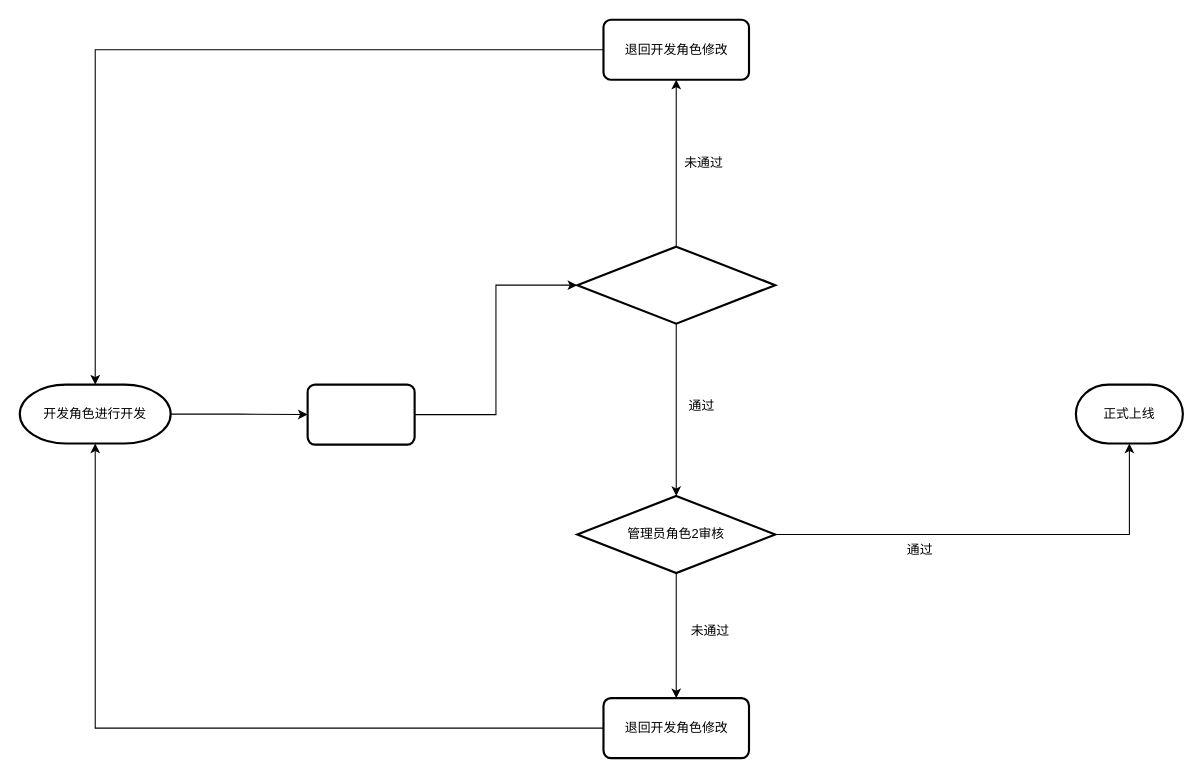
The diagram is 1202 pixels wide and 777 high, and some of its shapes have lost their labels. Each missing label, with the centre of its shape:
完成提交: (360,414)
管理员角色1审核: (676,284)
